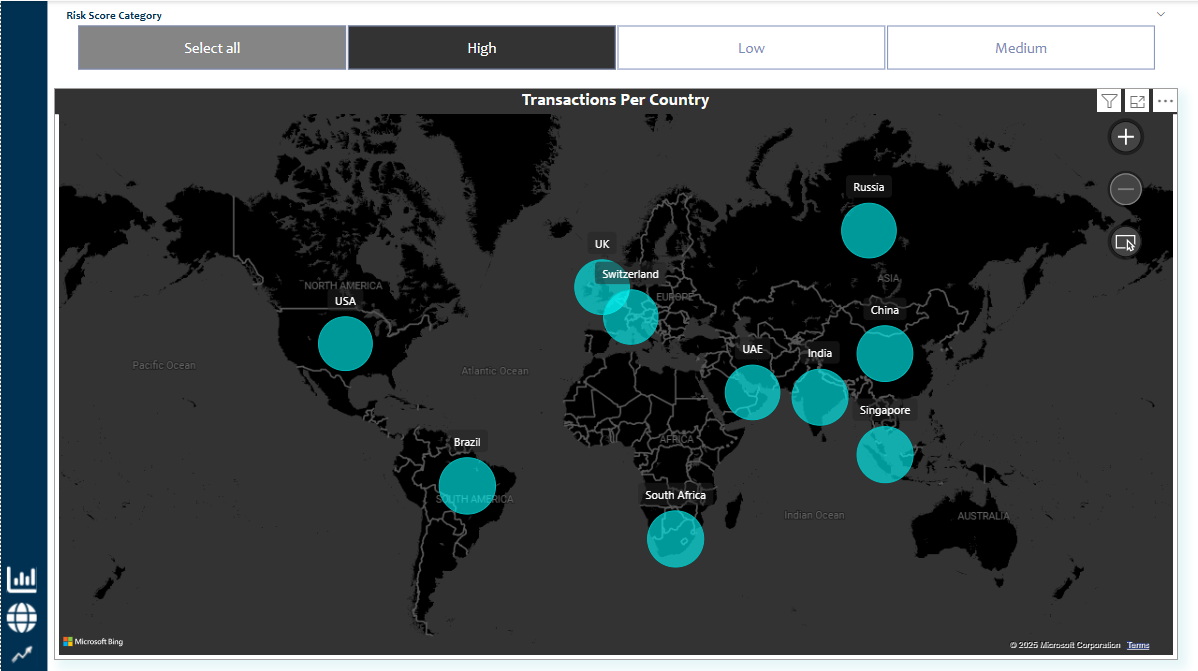

What the dashboard file says about the page in this screenshot:
{"tool":"powerbi","page":{"name":"Risk Assessment per country","canvas":[1280,720],"ordinal":1},"visuals":[{"type":"map","title":"Transactions Per Country","fields":{"Category":["capital_watch country.Country_Name"],"Size":["Measures Table.Total_Transactions"]},"box":[57.1,92.9,1200,611.4],"z":0},{"type":"actionButton","box":[2.5,598.8,45,40.4],"z":0,"group":"g1"},{"type":"slicer","fields":{"Values":["capital_watch transactions.Risk Score Category"]},"box":[57.1,2.9,1200,77.1],"z":1000},{"type":"actionButton","box":[2.5,639.2,45,40.4],"z":1000,"group":"g1"},{"type":"shape","title":"Left Nav Background","box":[0,0,49.6,720],"z":2000},{"type":"actionButton","box":[2.5,678.6,45,41.2],"z":2000,"group":"g1"},{"type":"group","id":"g1","title":"Nav Buttons","box":[2.5,598.8,45,121.2],"z":3000}]}

Visuals, with their boxes on the page's 1280x720 design canvas (x1, y1, x2, y2). These are canvas units, not pixel positions in the 1198x671 screenshot, which may show the page scaled, cropped or inside an application window:
"Transactions Per Country" map: 57:93:1257:704
actionButton: 2:599:48:639
slicer - capital_watch transactions.Risk Score Category: 57:3:1257:80
actionButton: 2:639:48:680
"Left Nav Background" shape: 0:0:50:720
actionButton: 2:679:48:720
"Nav Buttons" group: 2:599:48:720
